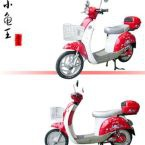non-vehicle: (54, 0, 141, 79), (43, 84, 138, 144)
